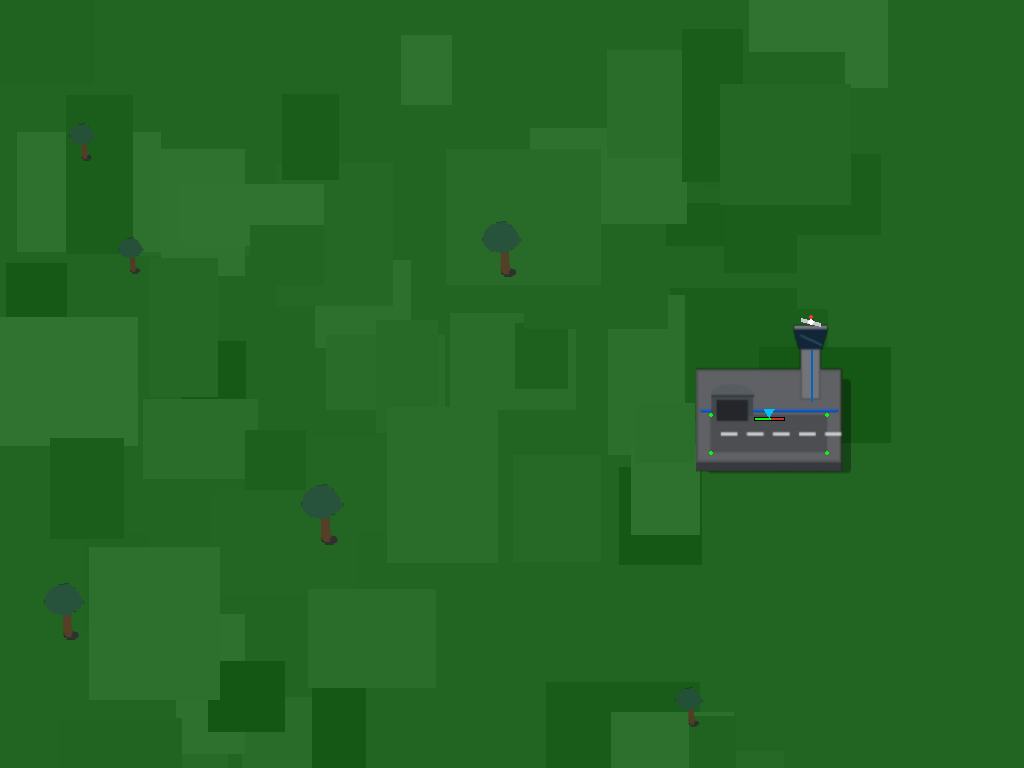HeavyMech: (701, 347, 804, 483)
